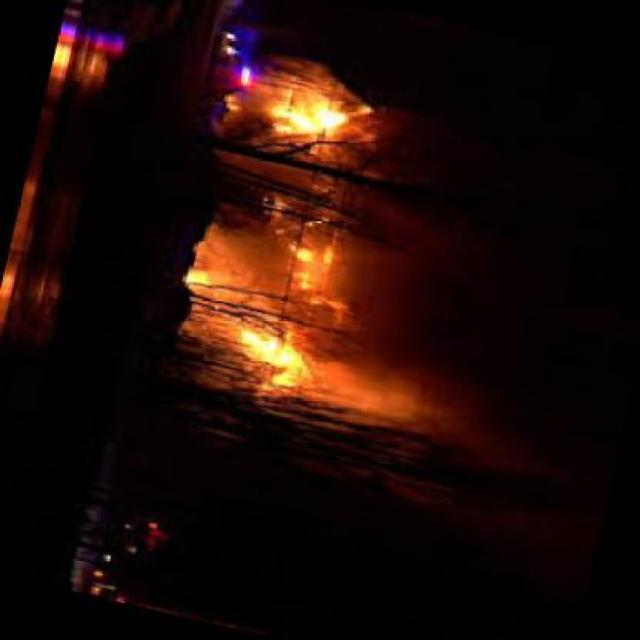Fire: (218, 322, 310, 399), (255, 77, 352, 149), (278, 232, 346, 312), (171, 245, 237, 300)
Smoke: (368, 115, 574, 491)
